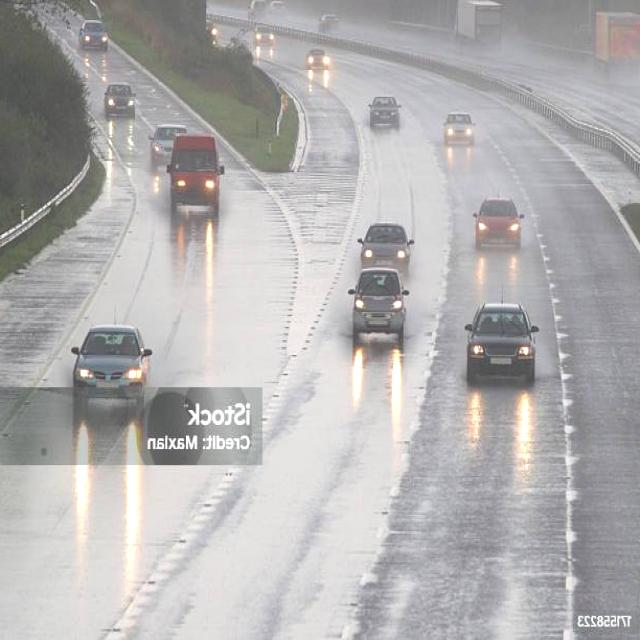Vehicle: (451, 285, 541, 398), (341, 274, 418, 374), (64, 321, 152, 400), (452, 185, 541, 258), (170, 120, 226, 228), (340, 208, 425, 270), (70, 10, 116, 56), (440, 106, 482, 154), (95, 78, 136, 120), (364, 97, 402, 139), (304, 45, 339, 84), (146, 122, 164, 175), (250, 27, 282, 52)
